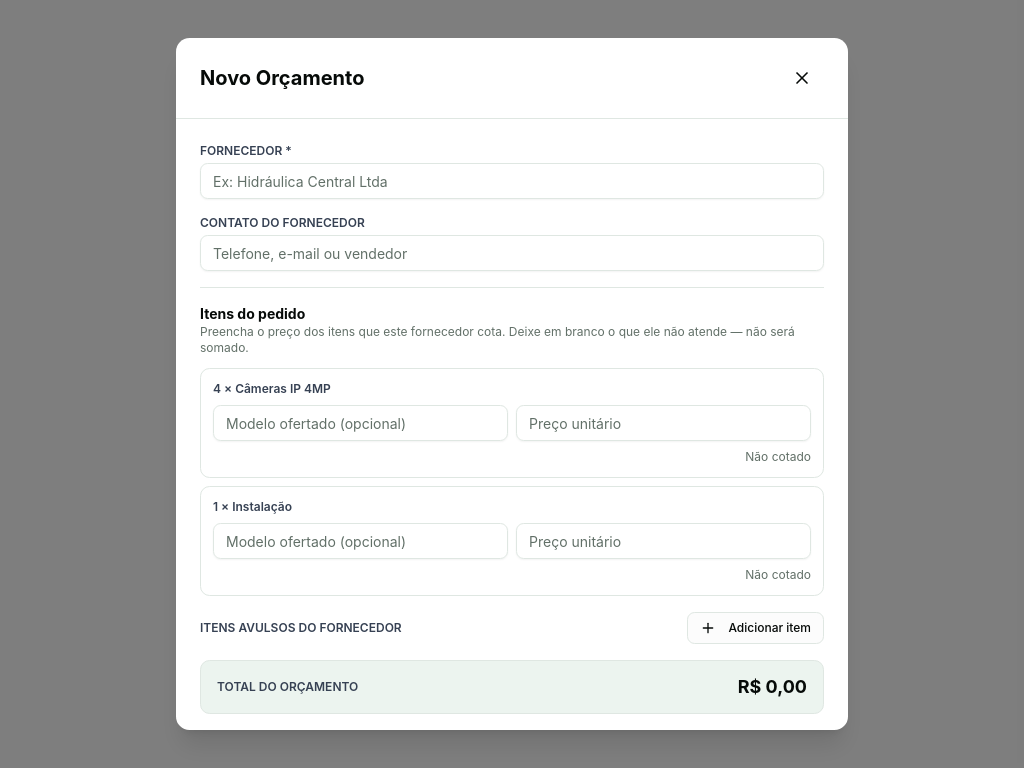
Test: QuoteFormModal › computes the line and the quote totals live
Type "125.5" into the number field with test id "quote-line-price-ri-cam". click: (664, 423)
box: left=516, top=405, right=811, bottom=441
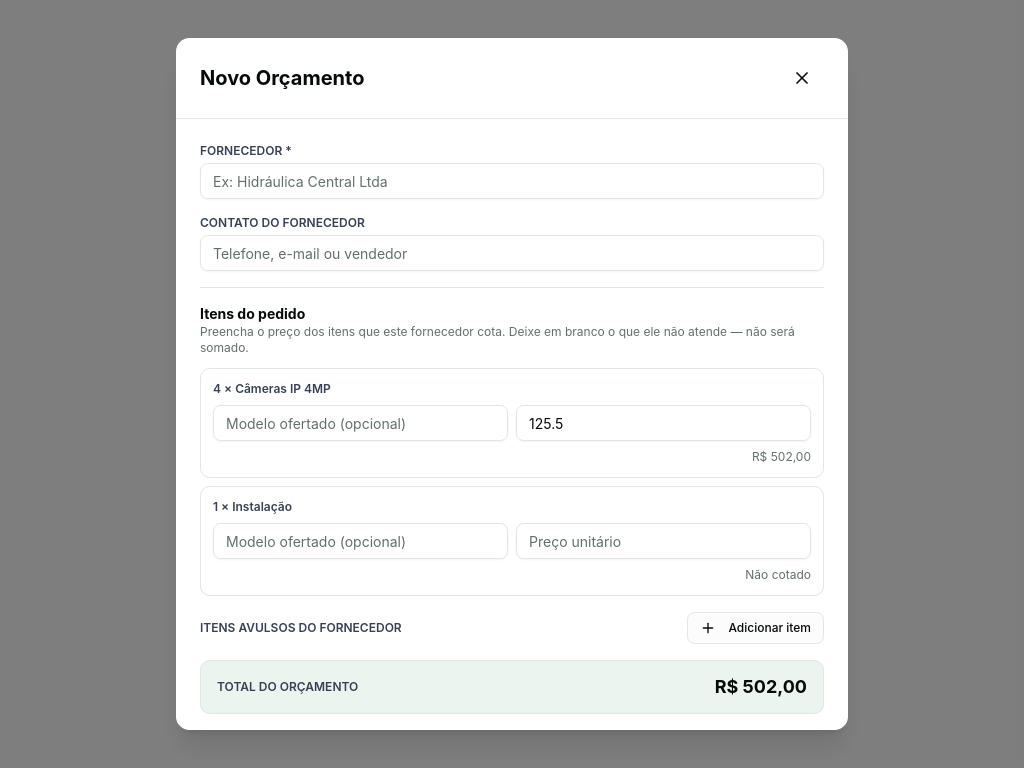
Result: the text with test id "quote-line-total-ri-cam" shows "502" at left=752, top=449, right=811, bottom=464
Result: the text with test id "quote-total" shows "502" at left=715, top=676, right=807, bottom=697
Type "98" into the number field with test id "quote-line-price-ri-install". click: (664, 541)
box: left=516, top=523, right=811, bottom=559
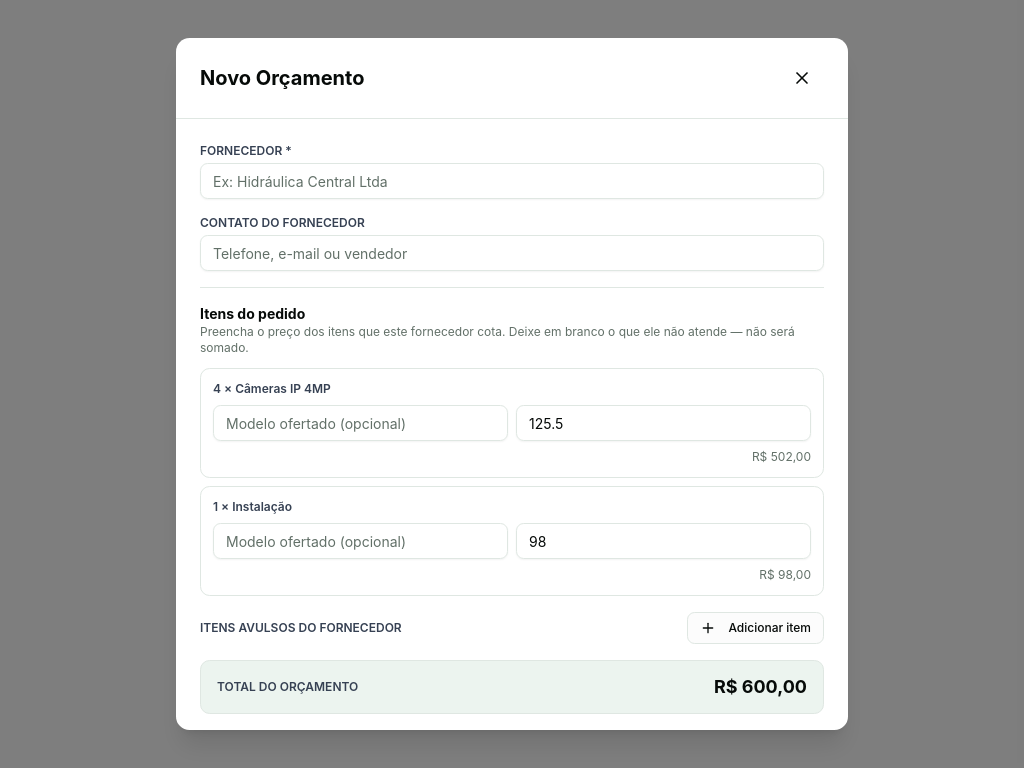
Result: the text with test id "quote-total" shows "600" at left=714, top=676, right=807, bottom=697
